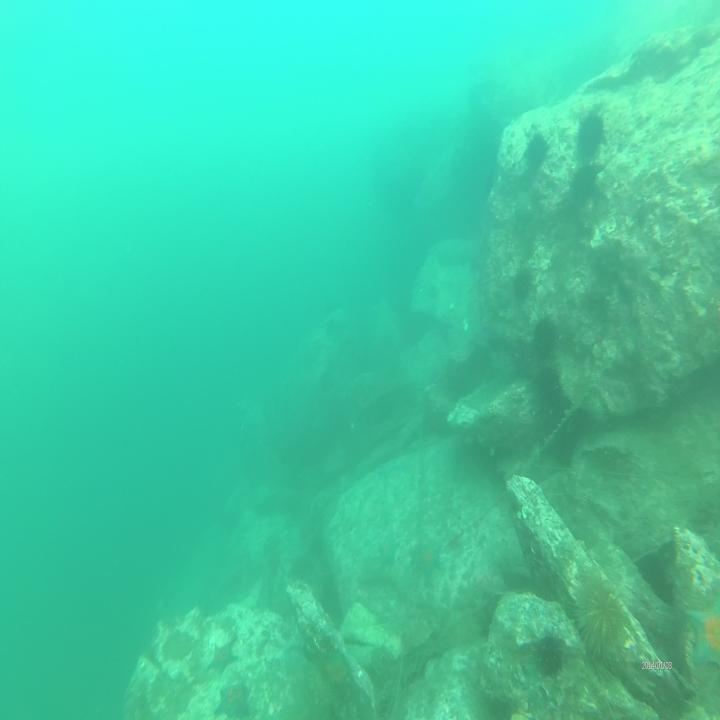echinus: (576, 563, 636, 674), (531, 621, 567, 691), (528, 309, 560, 366), (576, 107, 609, 160), (567, 158, 603, 204), (520, 130, 553, 176), (509, 260, 536, 306)
starfish: (686, 587, 720, 672), (214, 677, 253, 720), (205, 633, 239, 678), (411, 535, 442, 581)
